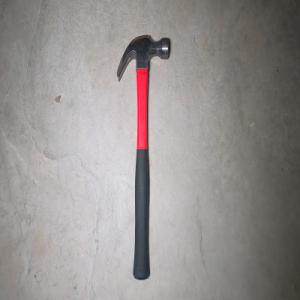Hammer: (116, 34, 170, 280)
